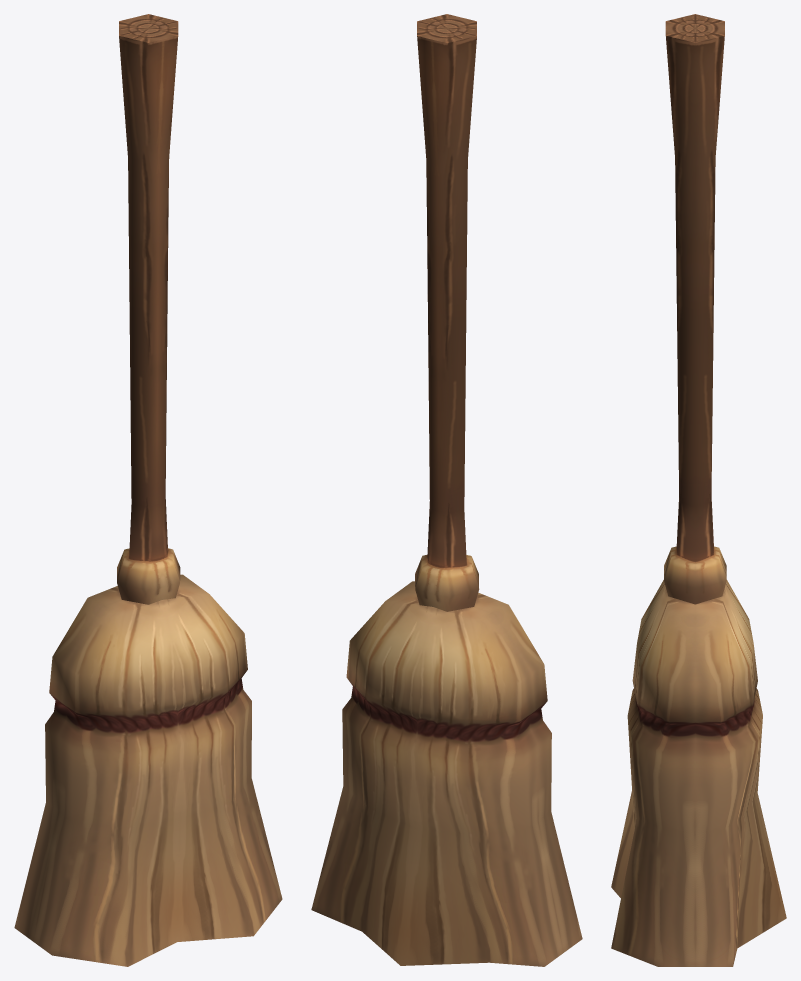
Rendered from broom.FBX.
3 views of the same model, side by side, from view 1: azimuth 30°, elevation 25°; view 2: azimuth 150°, elevation 25°; view 3: azimuth 270°, elevation 25° (orthographic).
Parts seen in each view (by area): view 1: broom; view 2: broom; view 3: broom.
Boxes of the visible parts, x1=… form: broom: x1=14, y1=14, x2=282, y2=966; broom: x1=311, y1=14, x2=582, y2=966; broom: x1=611, y1=14, x2=786, y2=966.
Bounding box in the file's own units: 18.12 × 67.06 × 12.
